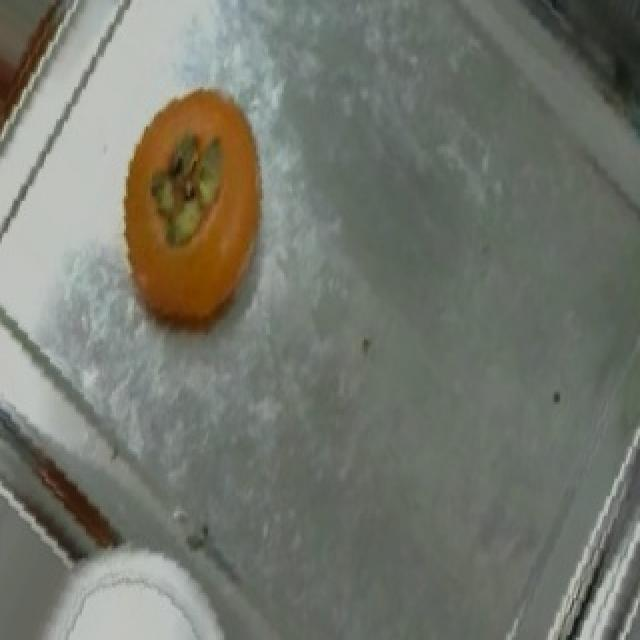Fruit: (94, 67, 290, 355), (38, 563, 226, 640)
